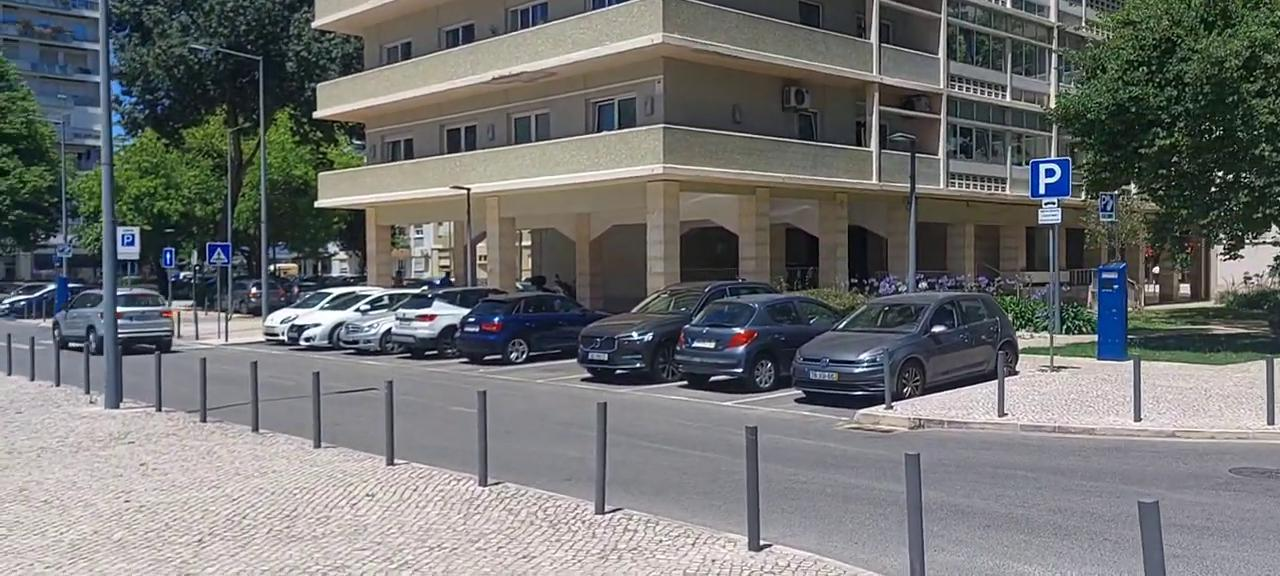Estacionamento autorizado: (1028, 154, 1069, 199)
